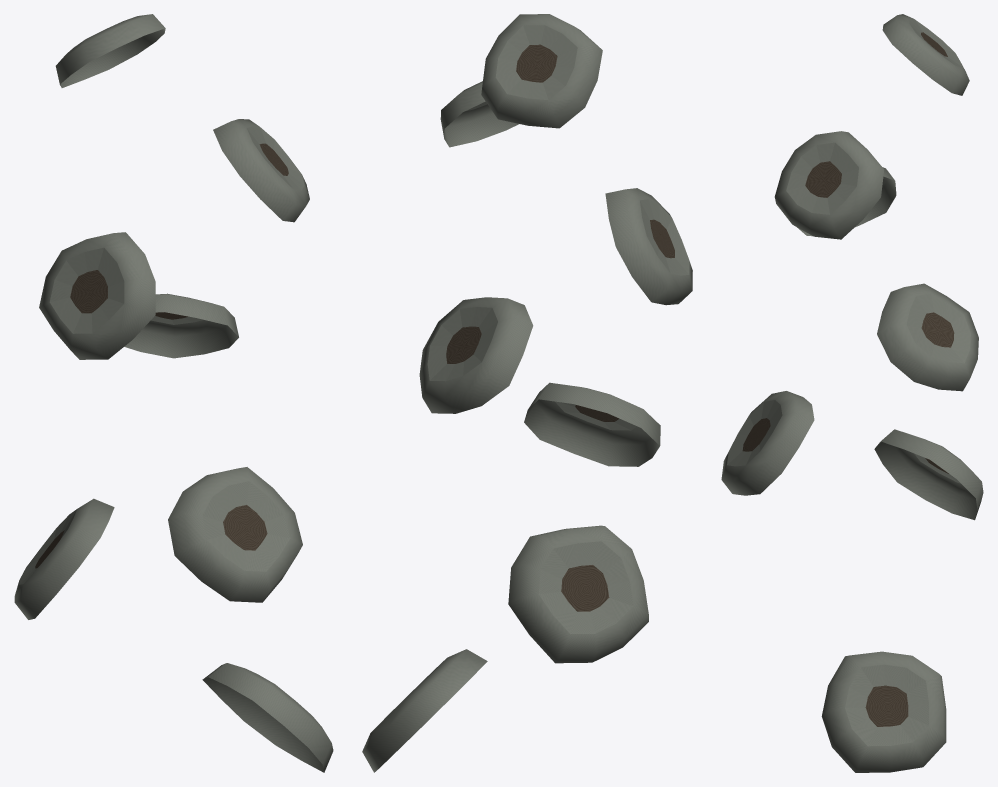
File: Beech_Mature_01_MediumPruned_Healed_LOD1.fbx
The picture shows the model from 3 angles, left to right: view 1: azimuth 30°, elevation 25°; view 2: azimuth 150°, elevation 25°; view 3: azimuth 270°, elevation 25°; orthographic projection. The views are drawn at different scales.
Parts seen in each view (by area): view 1: Beech_Mature_01_MediumPruned_Healed_LOD1_Scars; view 2: Beech_Mature_01_MediumPruned_Healed_LOD1_Scars; view 3: Beech_Mature_01_MediumPruned_Healed_LOD1_Scars.
Boxes of the visible parts, x1=… form: Beech_Mature_01_MediumPruned_Healed_LOD1_Scars: x1=14, y1=14, x2=333, y2=772; Beech_Mature_01_MediumPruned_Healed_LOD1_Scars: x1=362, y1=14, x2=692, y2=772; Beech_Mature_01_MediumPruned_Healed_LOD1_Scars: x1=721, y1=14, x2=983, y2=772.
Size of what is drawn, in the model's own units: 140 by 366 by 128.
Materials: 2 (2 with a texture image).
